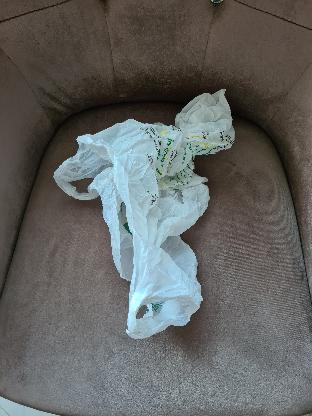Plastic Bag: (62, 84, 236, 334)
